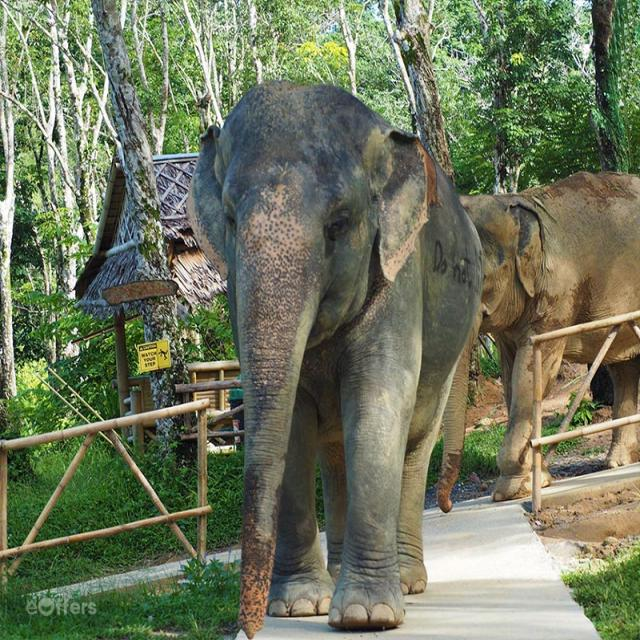Elephant: (151, 49, 518, 636)
